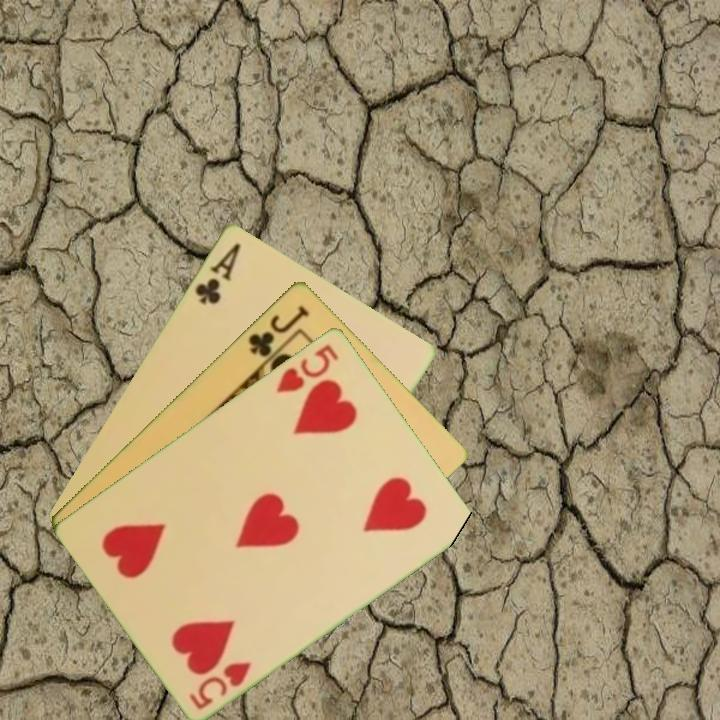5h: (272, 340, 342, 396), (185, 657, 254, 712)
Ac: (191, 238, 244, 307)
Jc: (244, 301, 312, 359)
